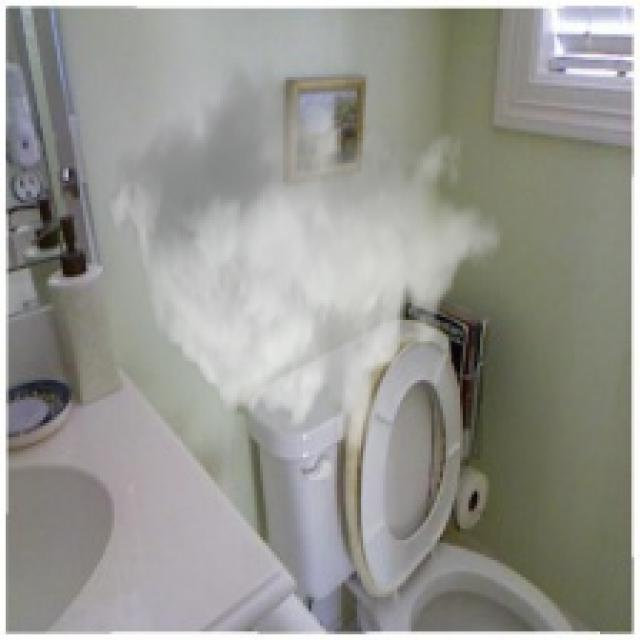Smoke: (103, 57, 503, 460)
